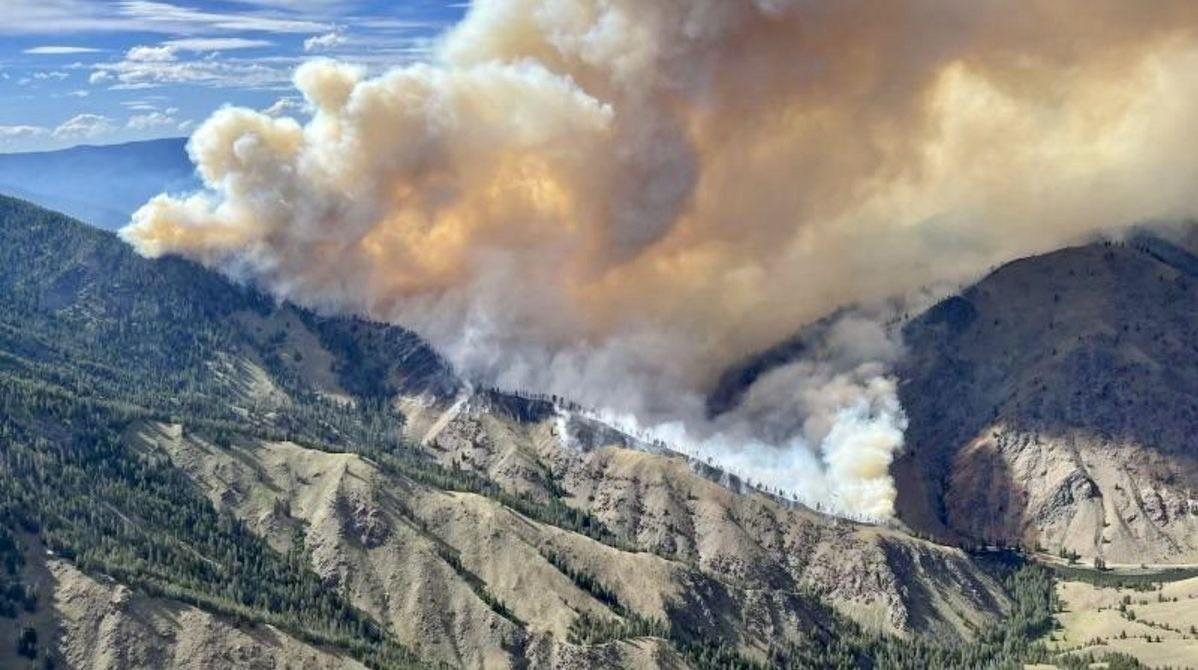smoke: (119, 23, 922, 534), (413, 229, 742, 491), (165, 109, 374, 351), (795, 393, 908, 545)
